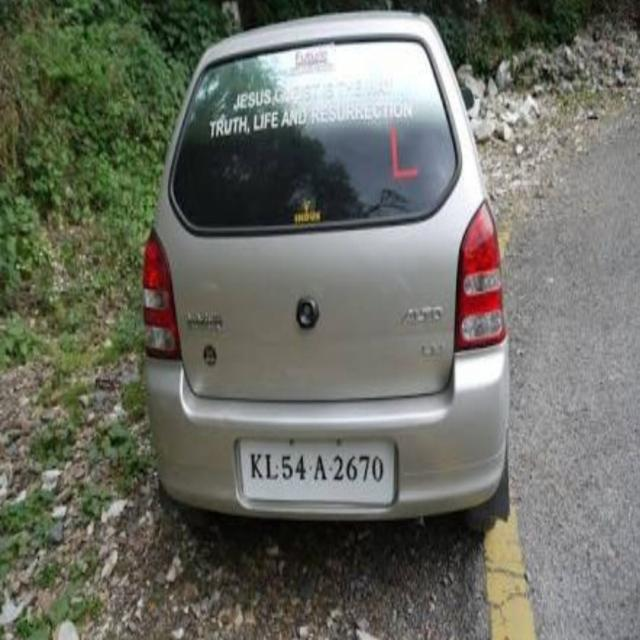Number-Plate: (244, 436, 394, 498)
